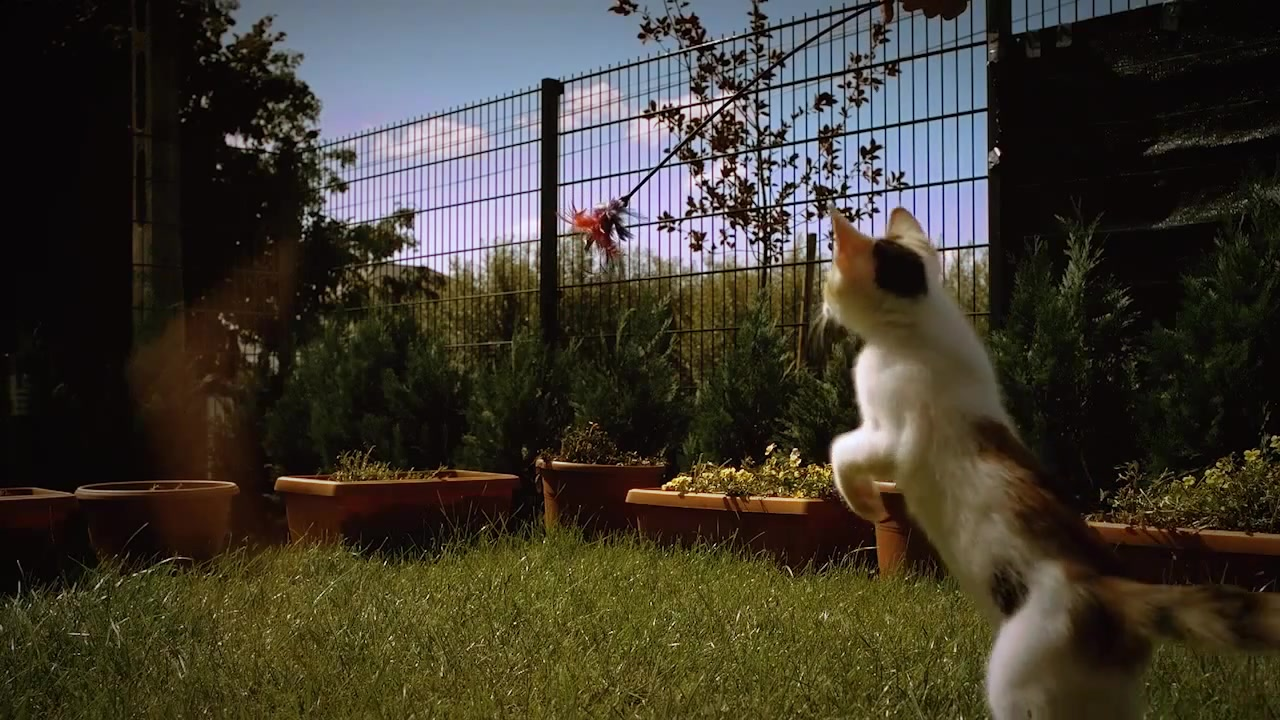cat: (814, 204, 1280, 720)
